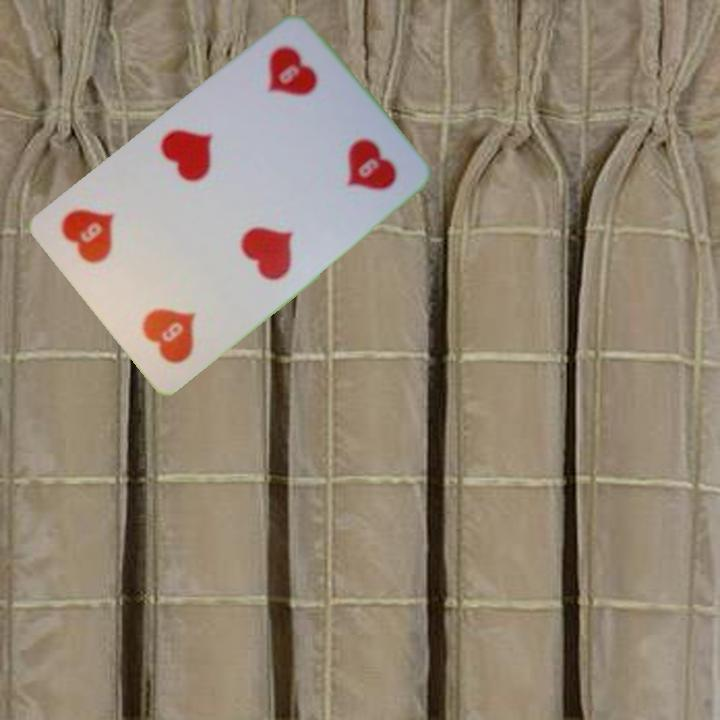h_6.png: (231, 28, 358, 157), (105, 248, 232, 377)
